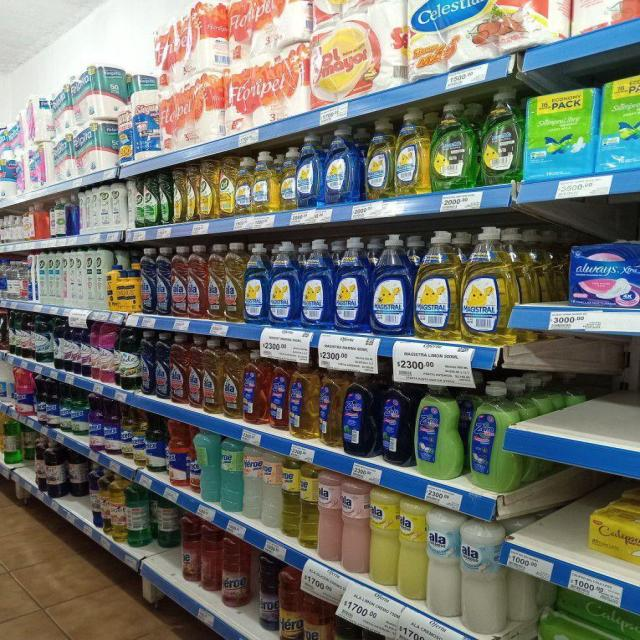ala_conc_amarillo: (225, 242, 243, 323), (203, 338, 222, 414), (224, 340, 242, 419), (208, 243, 224, 321)
ala_conc_azul: (154, 332, 170, 400), (155, 246, 170, 316), (140, 247, 154, 314), (140, 331, 154, 396)
ala_conc_rojo: (188, 244, 206, 319), (170, 333, 187, 403), (171, 246, 187, 318), (188, 336, 203, 409)
ala_crem_amarillo: (398, 495, 426, 603), (369, 487, 398, 587)
ala_crem_blanco: (461, 518, 505, 636), (427, 508, 460, 618)
ala_crem_rosado: (341, 476, 368, 574), (318, 470, 341, 563)
cif_conc_bot_amarilla: (200, 160, 217, 220), (218, 158, 235, 217), (172, 167, 185, 223), (186, 164, 198, 221)
cif_conc_botella_verde: (143, 172, 158, 226), (159, 170, 171, 225)
heroe: (263, 448, 282, 530), (243, 444, 261, 520)
magistral_con_amarillo: (461, 226, 515, 345), (414, 230, 460, 340), (395, 109, 428, 195), (365, 119, 394, 198), (252, 151, 278, 213), (279, 147, 297, 211), (235, 156, 252, 215)
magistral_con_azul: (371, 232, 412, 336), (335, 236, 369, 333), (301, 238, 333, 329), (324, 126, 361, 204), (270, 240, 300, 327), (296, 134, 322, 208), (245, 242, 268, 325)
magistral_con_verde: (432, 101, 476, 191)
zorro: (415, 382, 463, 479), (379, 371, 412, 465), (343, 370, 376, 456), (289, 359, 318, 438), (319, 367, 342, 448), (269, 355, 288, 431)
